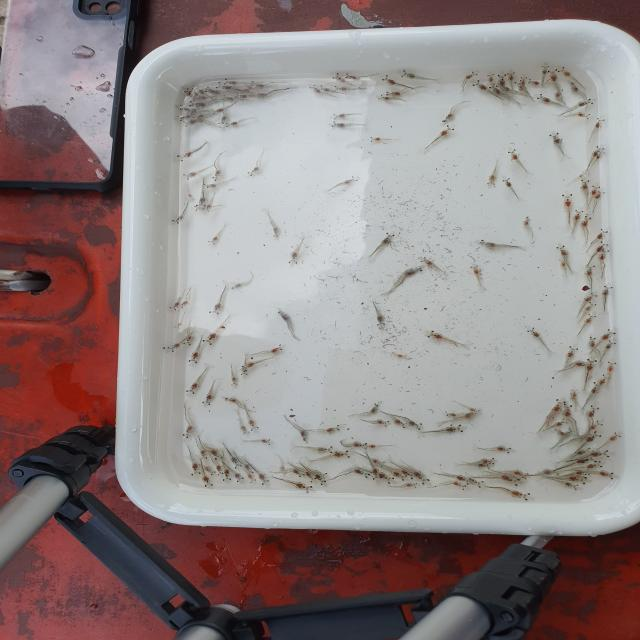babyshrimp: (401, 264, 426, 278), (508, 490, 536, 502), (202, 330, 220, 348), (294, 481, 318, 494), (580, 431, 602, 445), (498, 475, 525, 486), (410, 471, 431, 485), (584, 355, 597, 377), (476, 239, 501, 250), (525, 324, 542, 340), (380, 230, 396, 247), (182, 424, 198, 441), (438, 123, 456, 137), (587, 401, 600, 420), (174, 150, 194, 162), (208, 300, 224, 315), (186, 381, 201, 397), (596, 470, 620, 480), (569, 474, 593, 484), (600, 327, 617, 341), (549, 130, 562, 148), (188, 349, 201, 367), (589, 450, 615, 459), (427, 330, 448, 341), (277, 307, 292, 322), (565, 343, 579, 359), (257, 472, 271, 488), (556, 242, 569, 259), (165, 341, 182, 354), (353, 467, 373, 478), (201, 472, 213, 490), (583, 299, 597, 314), (456, 474, 475, 485), (582, 291, 598, 304), (583, 310, 596, 326), (508, 146, 520, 163), (601, 282, 613, 299), (288, 247, 300, 264), (393, 418, 410, 430), (340, 176, 360, 186), (576, 98, 596, 108), (330, 450, 355, 458), (562, 190, 573, 208), (464, 409, 482, 420), (441, 111, 454, 126), (595, 239, 610, 252), (202, 393, 215, 408), (230, 456, 243, 471), (472, 80, 488, 92), (179, 171, 198, 181), (401, 70, 420, 80), (446, 424, 467, 433), (537, 94, 554, 105), (247, 419, 260, 433), (232, 471, 245, 485), (382, 75, 400, 85), (238, 361, 256, 371), (208, 448, 223, 460), (562, 481, 582, 490), (583, 461, 603, 470), (557, 67, 573, 78), (573, 206, 584, 222), (451, 480, 467, 491), (494, 445, 516, 453), (269, 344, 286, 354), (191, 463, 201, 480), (513, 469, 530, 479), (169, 300, 182, 313), (171, 214, 185, 226), (603, 339, 617, 351), (590, 381, 602, 395), (203, 466, 217, 478), (594, 115, 605, 130), (183, 118, 201, 127), (406, 421, 424, 430), (580, 177, 590, 193), (372, 468, 382, 484), (212, 169, 224, 182), (195, 195, 208, 207), (592, 144, 604, 157), (596, 227, 608, 240), (598, 374, 611, 386), (580, 215, 591, 229), (584, 264, 595, 278), (608, 432, 622, 443), (327, 121, 346, 129), (222, 396, 241, 404), (314, 446, 333, 454), (325, 425, 344, 433), (332, 73, 347, 83), (299, 429, 309, 444), (478, 458, 499, 465), (257, 438, 275, 446), (392, 472, 408, 481), (374, 419, 392, 427), (597, 249, 610, 260), (239, 424, 250, 437), (369, 401, 380, 414), (548, 69, 558, 83), (419, 257, 433, 267), (471, 262, 480, 277), (248, 166, 260, 177), (594, 188, 605, 200), (606, 361, 617, 373), (183, 334, 194, 346), (305, 472, 317, 483), (502, 175, 512, 188), (575, 112, 591, 120), (223, 469, 231, 485), (313, 470, 327, 479), (590, 185, 601, 196), (309, 84, 321, 94), (497, 74, 507, 86), (487, 173, 497, 185), (588, 333, 596, 348), (272, 226, 280, 241), (208, 235, 220, 245), (240, 363, 248, 378), (465, 71, 478, 80), (558, 257, 567, 270), (523, 216, 532, 229), (376, 315, 385, 328), (292, 468, 305, 477), (372, 458, 385, 467), (572, 360, 588, 367), (570, 82, 580, 93), (179, 301, 190, 311), (554, 89, 563, 101), (345, 73, 360, 80), (226, 120, 239, 128), (385, 91, 402, 97), (247, 473, 257, 483), (506, 72, 515, 83), (380, 471, 391, 480), (211, 108, 225, 115), (334, 85, 348, 92), (333, 113, 347, 120), (352, 441, 368, 447), (528, 79, 541, 86), (216, 465, 223, 478), (596, 150, 605, 160), (174, 321, 184, 330), (487, 73, 495, 84), (377, 94, 391, 100), (231, 283, 245, 289), (218, 116, 227, 125), (203, 204, 213, 212), (541, 65, 549, 75), (200, 450, 208, 460), (404, 483, 420, 488), (370, 136, 383, 142), (445, 411, 458, 417), (320, 85, 331, 92), (231, 375, 238, 386), (202, 184, 216, 189), (364, 444, 376, 449)
